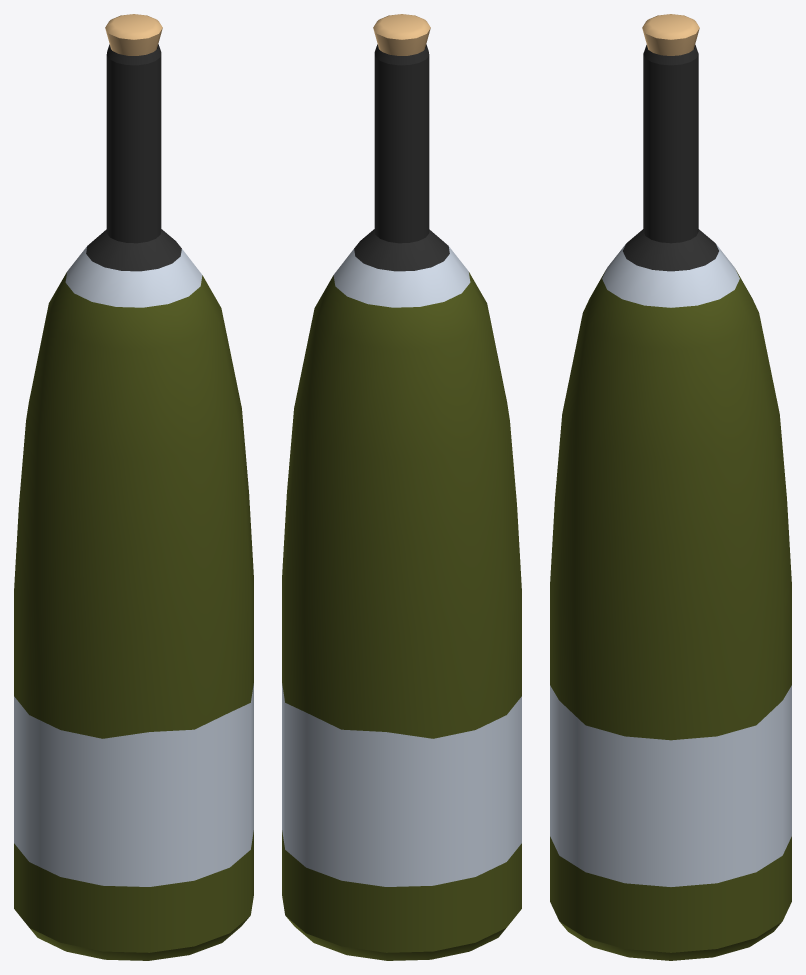
Rendered from champange.fbx.
The picture shows the model from 3 angles, left to right: view 1: azimuth 30°, elevation 25°; view 2: azimuth 150°, elevation 25°; view 3: azimuth 270°, elevation 25°; orthographic projection.
Visible parts, largest first — view 1: Champagne; view 2: Champagne; view 3: Champagne.
Boxes of the visible parts, box(x1,y1,x2,y2) form: Champagne: box(14, 14, 253, 960); Champagne: box(282, 14, 521, 960); Champagne: box(550, 14, 791, 960).
Bounding box in the file's own units: 0.729 × 2.96 × 0.729.
